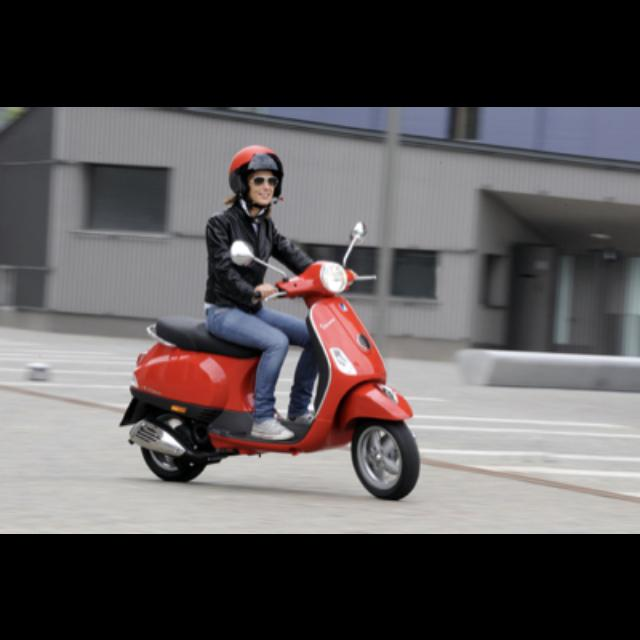With Helmet: (224, 138, 288, 212)
